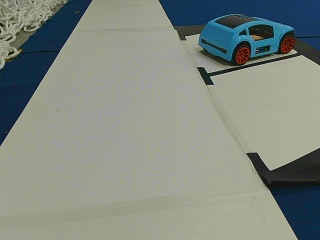car: (199, 16, 295, 64)
